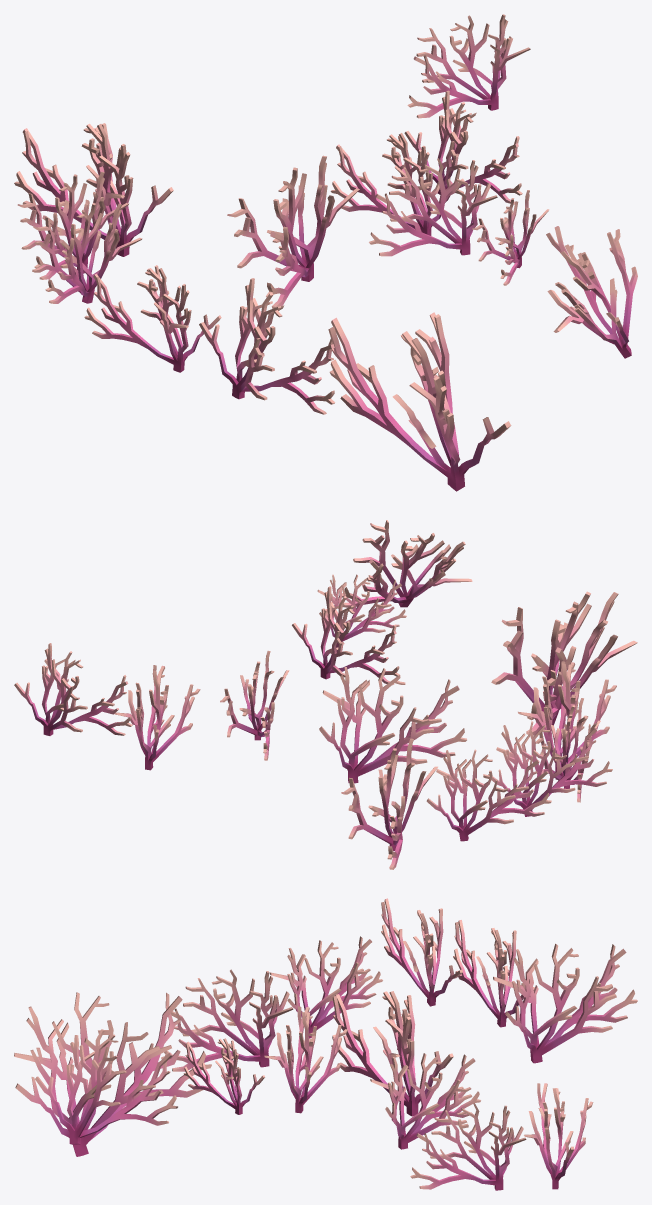
Rendered from stageObject_10.fbx.
3 renders of one model, top to bottom at view 1: azimuth 30°, elevation 25°; view 2: azimuth 150°, elevation 25°; view 3: azimuth 270°, elevation 25°, orthographic. The views are drawn at different scales.
Visible parts, largest first — view 1: sango6-2; view 2: sango6-2; view 3: sango6-2.
Boxes of the visible parts, box(x1,y1,x2,y2) form: sango6-2: box(14, 14, 637, 491); sango6-2: box(14, 520, 637, 869); sango6-2: box(14, 898, 637, 1190).
Bounding box in the file's own units: 506 × 180 × 533.
1 material, 1 textured.
